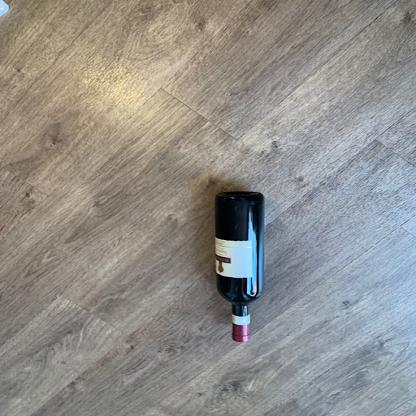trash: (210, 192, 266, 347)
